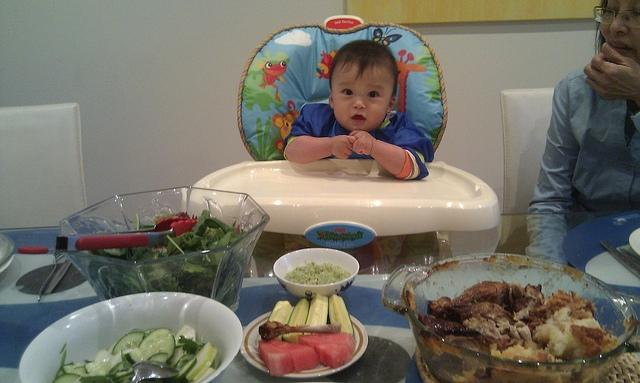cucumber: (138, 328, 176, 363), (282, 298, 310, 344), (328, 294, 354, 336), (185, 342, 212, 382), (268, 300, 294, 341), (303, 294, 328, 335), (190, 347, 218, 382), (122, 340, 158, 364), (111, 332, 145, 356), (175, 324, 196, 348), (175, 354, 196, 372), (62, 364, 88, 377), (51, 373, 84, 383), (168, 346, 184, 364), (112, 371, 134, 383), (105, 362, 123, 376), (148, 353, 168, 362), (85, 362, 96, 374), (130, 329, 144, 333)
watermelon: (268, 338, 320, 374), (258, 340, 294, 377), (298, 332, 357, 354), (314, 343, 353, 369)
